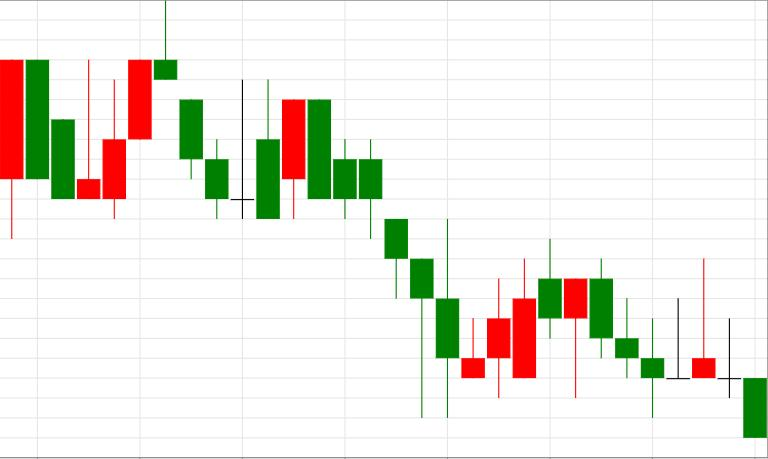hanging_man_fall: (461, 239, 587, 398)
morning_star_rise: (308, 100, 510, 418)
